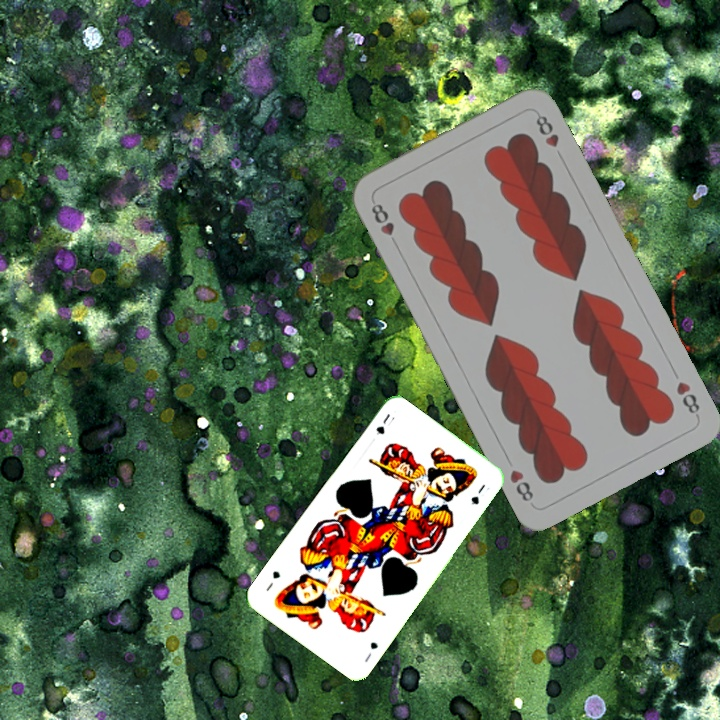GU: (371, 410, 393, 437), (361, 638, 380, 665)
H8: (672, 377, 703, 421), (367, 199, 397, 239)
